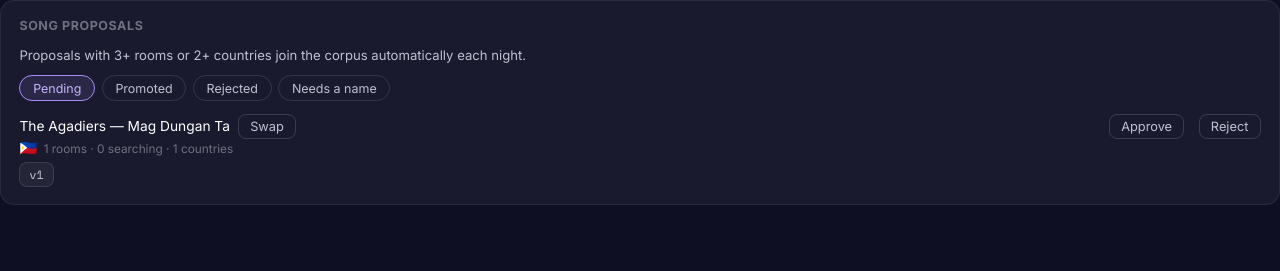
Test: Proposals › shows an in-row error rather than throwing when the approve request fails
Click the button "Approve".
click(1147, 127)  # box top-left (1109, 114), bottom-right (1184, 139)
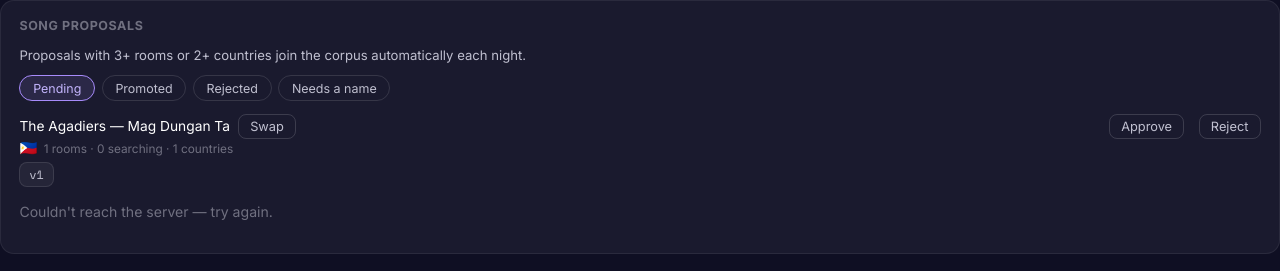
Expected: the text "The Agadiers — Mag Dungan Ta" is shown, top-left (19, 118), bottom-right (230, 134)
Result: the text "Couldn't reach the server — try again." is shown at top-left (19, 203), bottom-right (273, 220)
